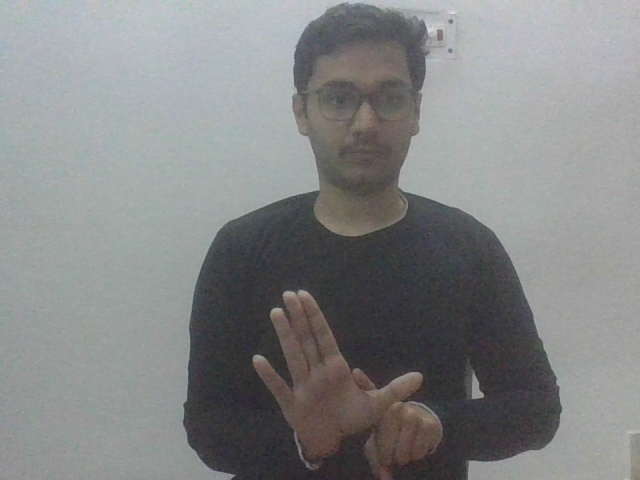Y: (246, 287, 449, 475)
